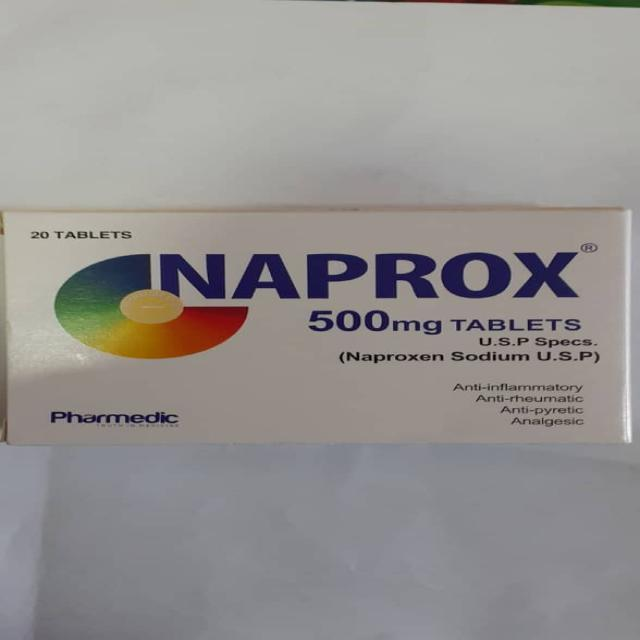drug-name: (155, 240, 602, 302)
